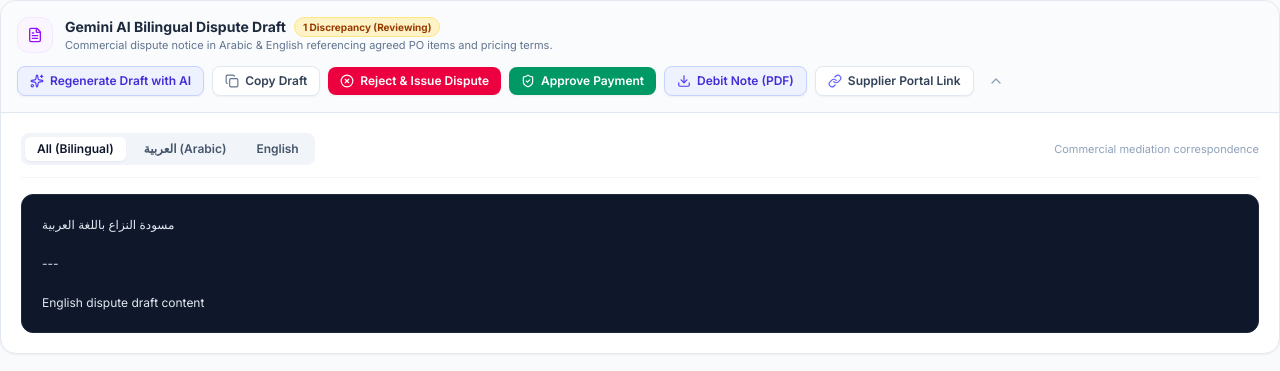
it: DisputeActionDrawer Component › switches language tabs cleanly between Arabic and English
Expected: the text "English dispute draft content" is shown, [42,217,204,310]
// Click Arabic tab
Click the button "العربية (Arabic)": (185, 149) [132,137,238,161]
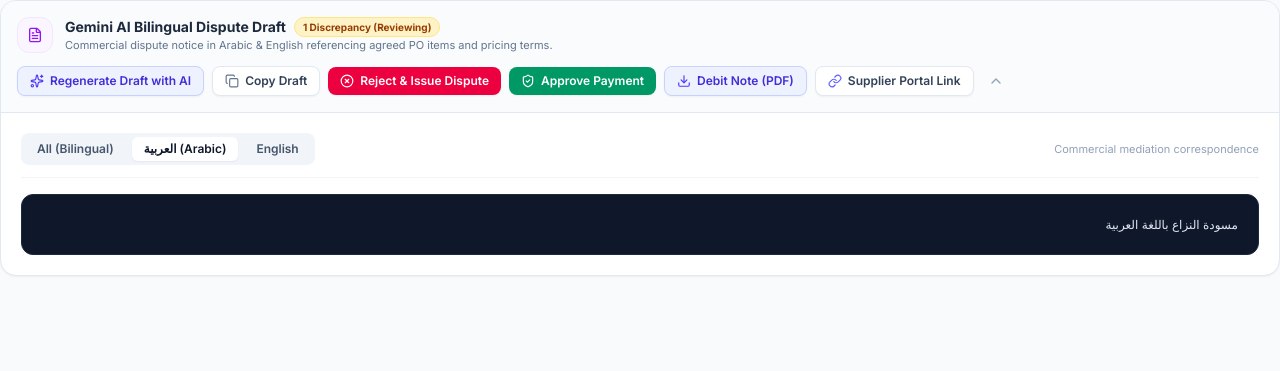
Expected: the text "مسودة النزاع باللغة العربية" is shown, [1106,217,1238,232]
// Click English tab
Click the button "English": (278, 149) [244,137,311,161]
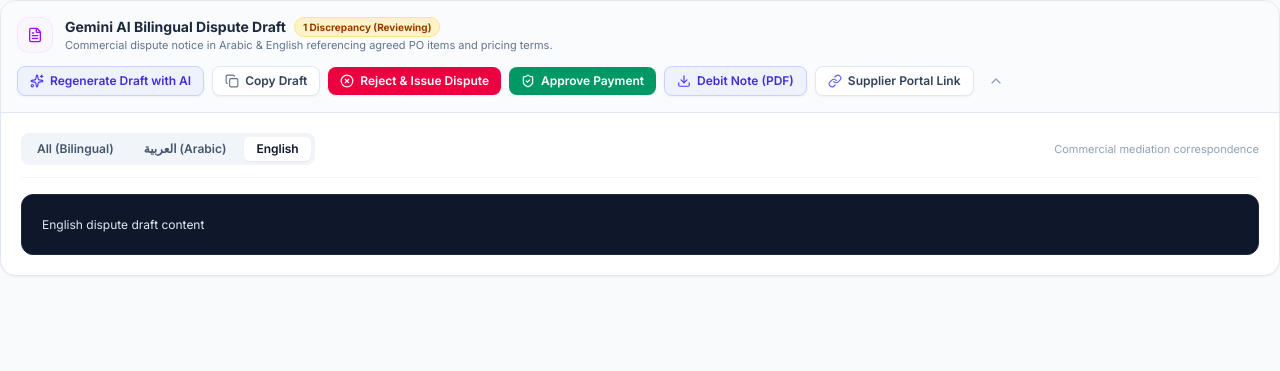
Now the text "English dispute draft content" is shown, box [42,217,204,232]
